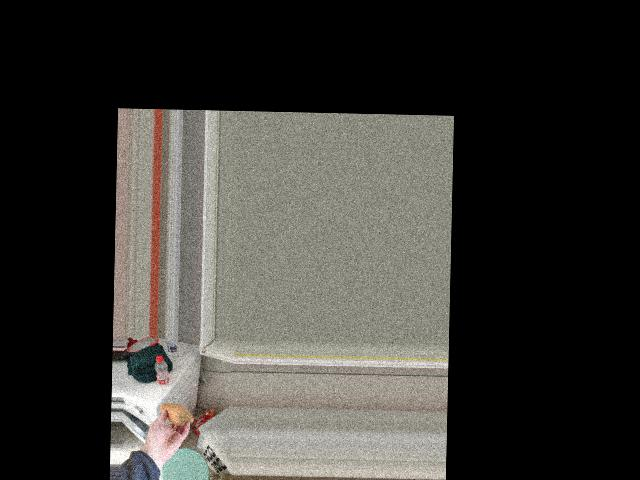sweet_potato: (161, 402, 190, 429)
